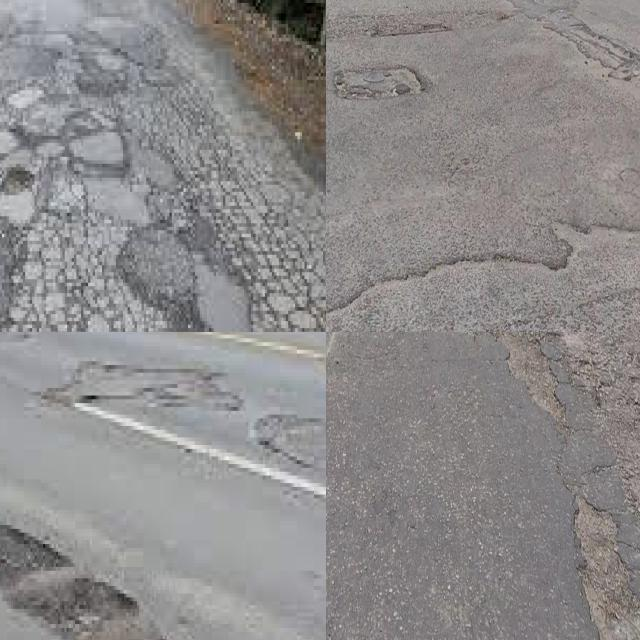Pothole: (0, 527, 165, 640), (570, 481, 640, 637), (490, 332, 568, 425), (333, 62, 427, 104), (0, 129, 32, 195)
